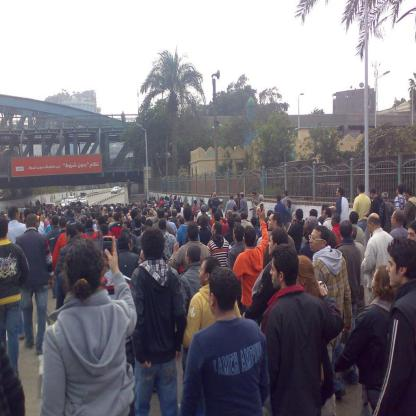face: (386, 255, 400, 288), (271, 259, 285, 290), (310, 230, 323, 252), (372, 269, 383, 295), (199, 262, 210, 284), (208, 285, 216, 314), (269, 236, 278, 256), (139, 251, 148, 270), (305, 221, 315, 238), (408, 229, 416, 249), (367, 220, 374, 235), (392, 212, 398, 228), (268, 215, 274, 230), (129, 241, 134, 254), (186, 251, 190, 267), (66, 231, 71, 243), (212, 224, 217, 236), (16, 209, 21, 220), (119, 214, 125, 223), (233, 229, 237, 241), (323, 209, 327, 220), (332, 216, 336, 227), (257, 209, 262, 217), (404, 193, 409, 201), (286, 201, 290, 208), (179, 220, 182, 228), (338, 189, 341, 197), (357, 187, 360, 195), (100, 229, 103, 237), (127, 214, 131, 220), (397, 188, 400, 195), (147, 213, 150, 219), (253, 194, 256, 200), (371, 194, 374, 200), (140, 212, 143, 218), (96, 220, 99, 226), (79, 213, 82, 218), (221, 204, 224, 209), (91, 215, 94, 220), (59, 210, 62, 214), (75, 214, 77, 219), (284, 193, 286, 198), (259, 197, 261, 202), (46, 208, 48, 211)
